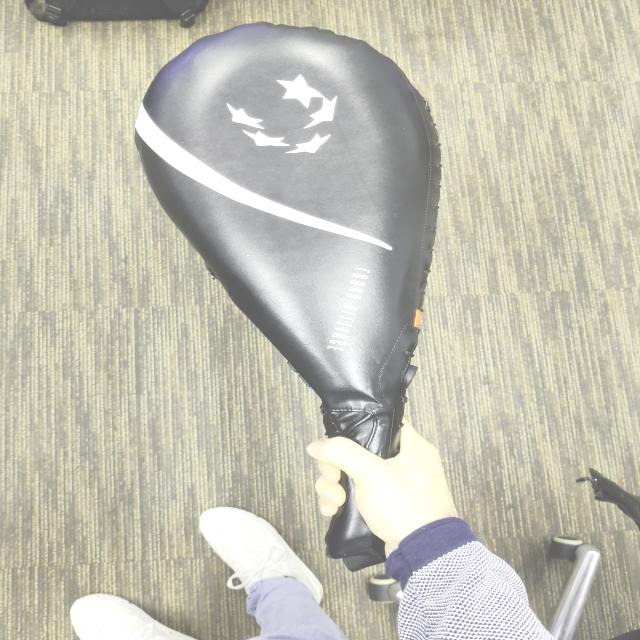paddle: (134, 14, 448, 558)
